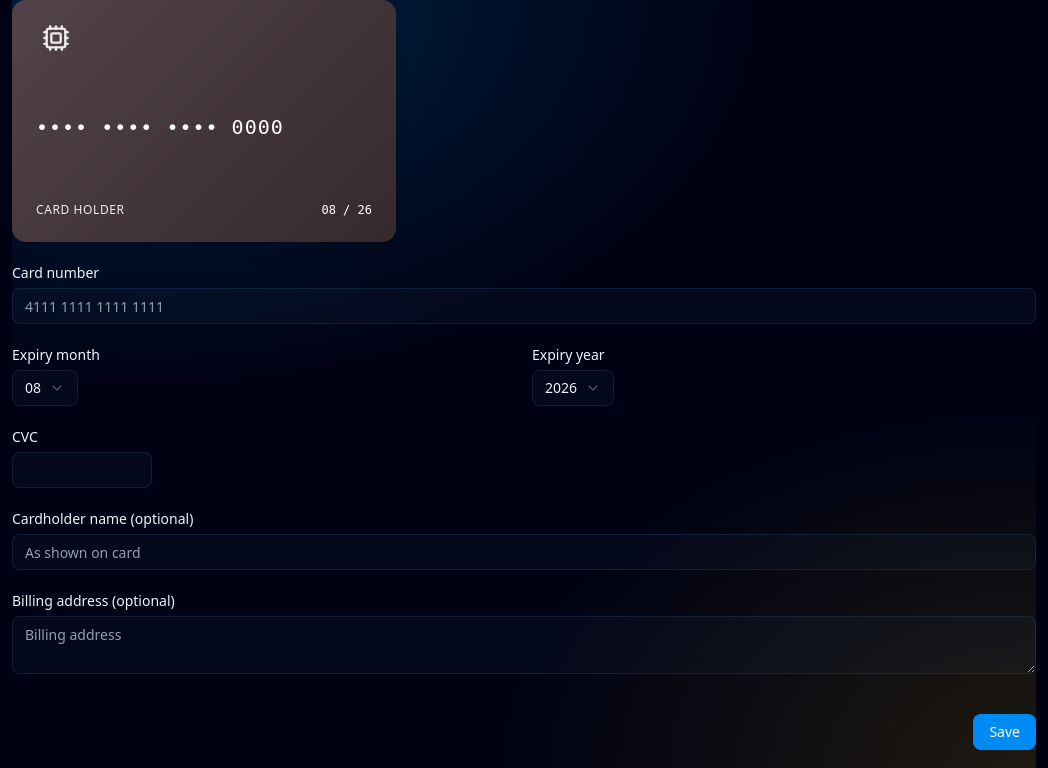
CreditCardForm › F1: 빈 폼 제출 → 카드 번호 및 CVC 에러 메시지 표시
Click the button "Save": coordinates (1005, 732) [973, 714, 1036, 750]
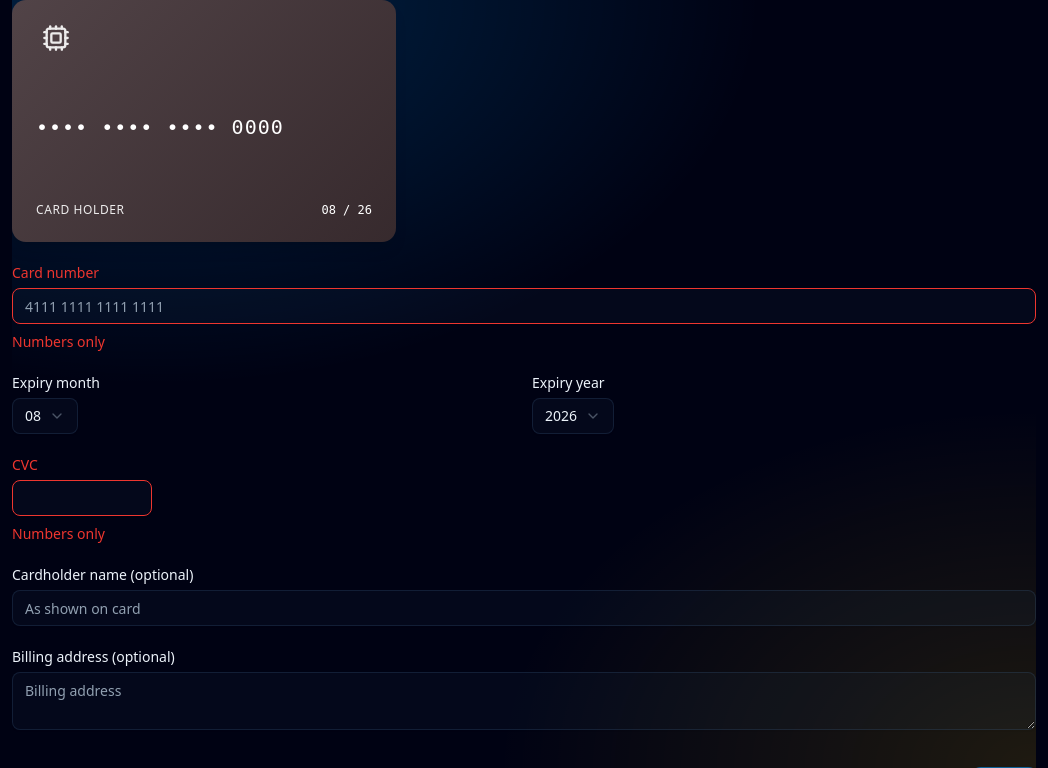
Expected: the text "Numbers only" below "Card number" is shown, [12, 332, 105, 351]
